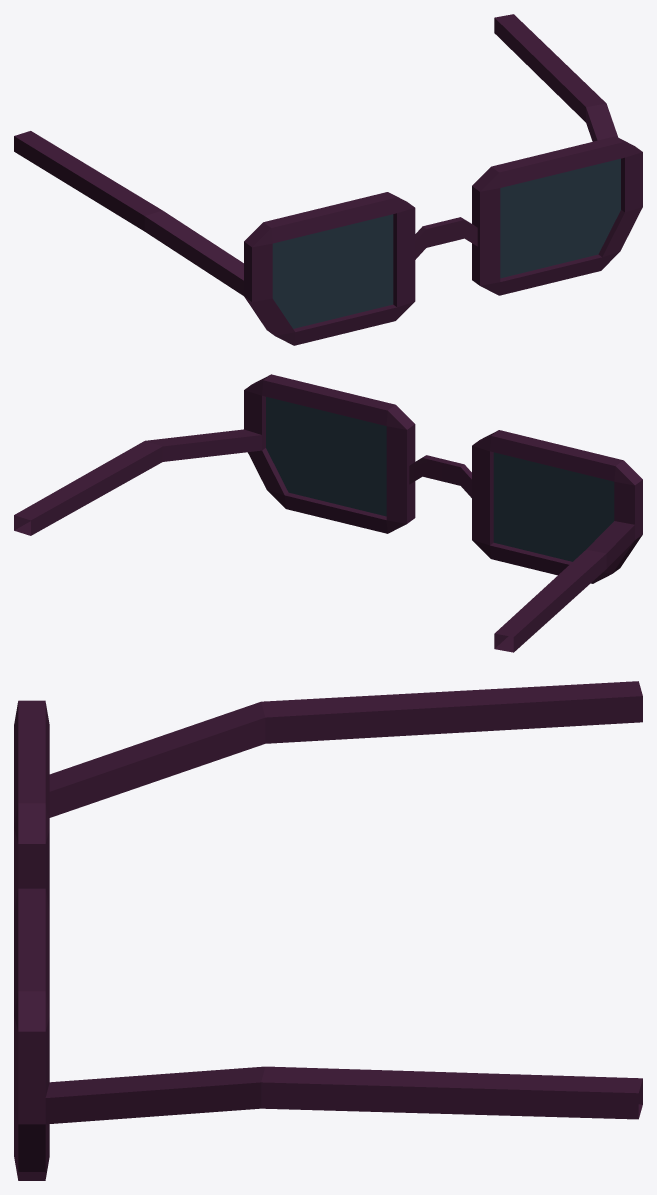
The model's file is Pedestrian_F_Sunglasses.fbx.
The picture shows the model from 3 angles, top to bottom: view 1: azimuth 30°, elevation 25°; view 2: azimuth 150°, elevation 25°; view 3: azimuth 270°, elevation 25°; orthographic projection. The views are drawn at different scales.
Parts seen in each view (by area): view 1: Pedestrian_F_Sunglasses; view 2: Pedestrian_F_Sunglasses; view 3: Pedestrian_F_Sunglasses.
Part boxes in pixels (<box>): Pedestrian_F_Sunglasses: <box>14,14,642,345</box>; Pedestrian_F_Sunglasses: <box>14,374,642,652</box>; Pedestrian_F_Sunglasses: <box>14,681,642,1180</box>.
Size of the model in its own units: 15.88 by 3.74 by 10.24.
